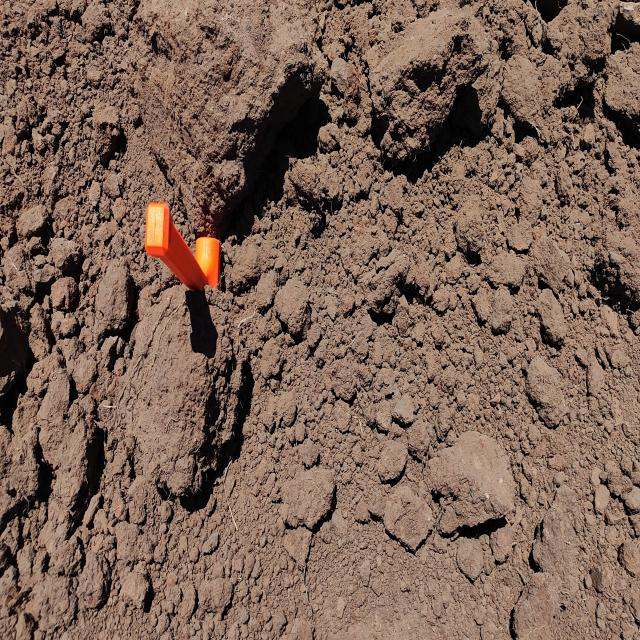Orange_hammer: (144, 200, 221, 293)
